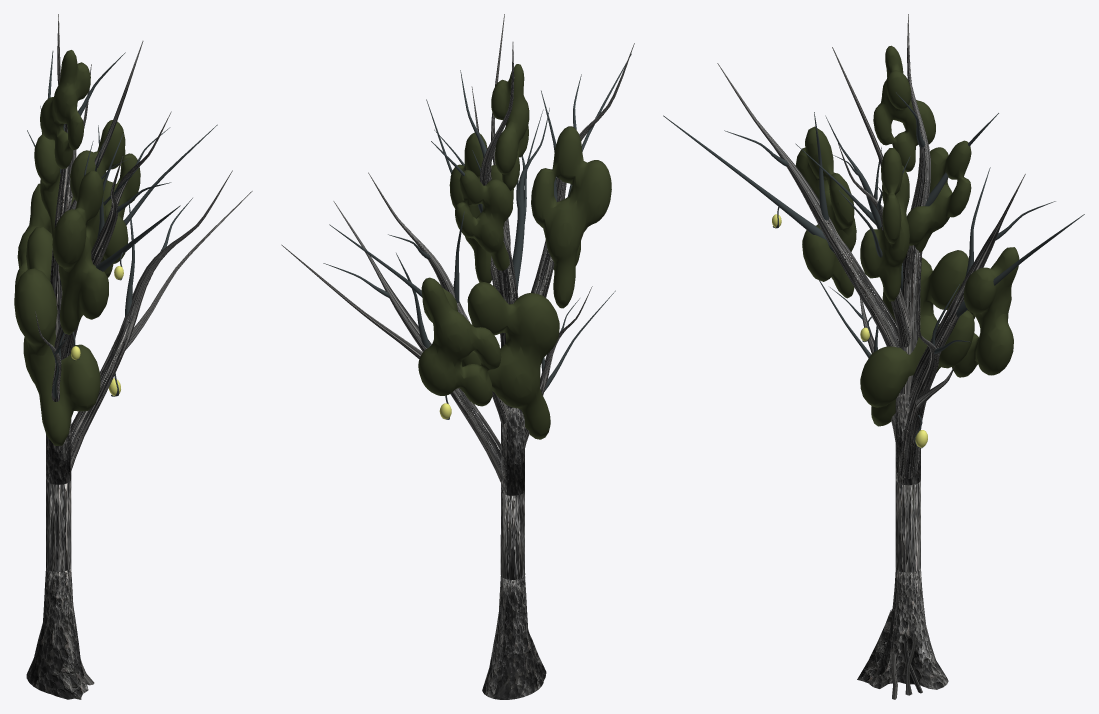
File: Tree_04.fbx
The picture shows the model from 3 angles, left to right: view 1: azimuth 30°, elevation 25°; view 2: azimuth 150°, elevation 25°; view 3: azimuth 270°, elevation 25°; orthographic projection. The views are drawn at different scales.
Parts seen in each view (by area): view 1: Tree_Bottom_00; view 2: Tree_Bottom_00; view 3: Tree_Bottom_00.
Boxes of the visible parts, <box> form: Tree_Bottom_00: <box>14,14,252,699</box>; Tree_Bottom_00: <box>281,14,634,699</box>; Tree_Bottom_00: <box>663,14,1084,699</box>.
Size of the model in its own units: 6.33 by 14.75 by 8.4.
